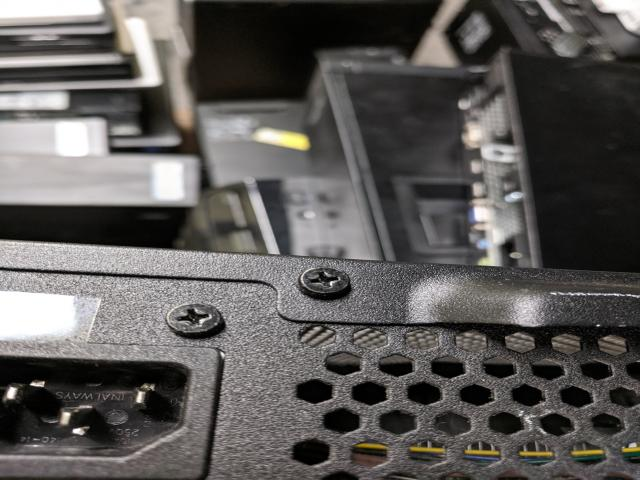CRS: (167, 302, 226, 338), (298, 266, 352, 295)
